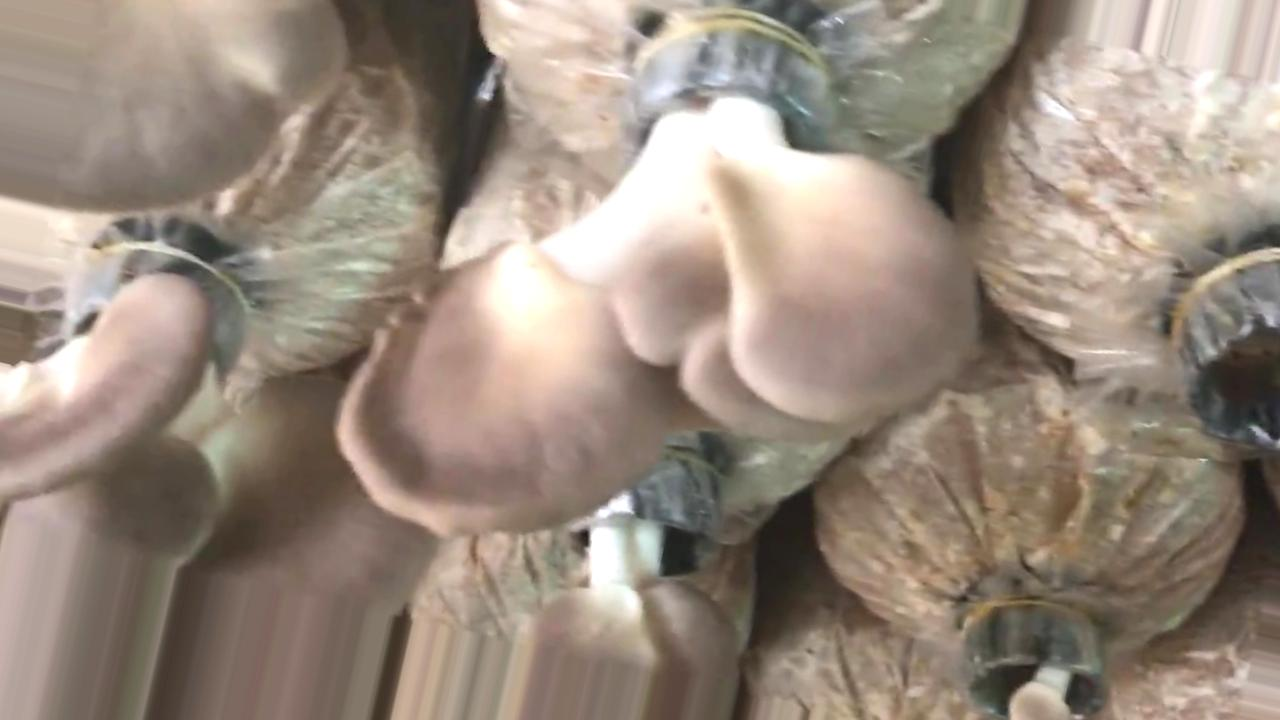nam: (342, 1, 978, 534), (3, 227, 438, 719), (1, 2, 346, 206), (512, 445, 739, 720), (961, 602, 1107, 720)
